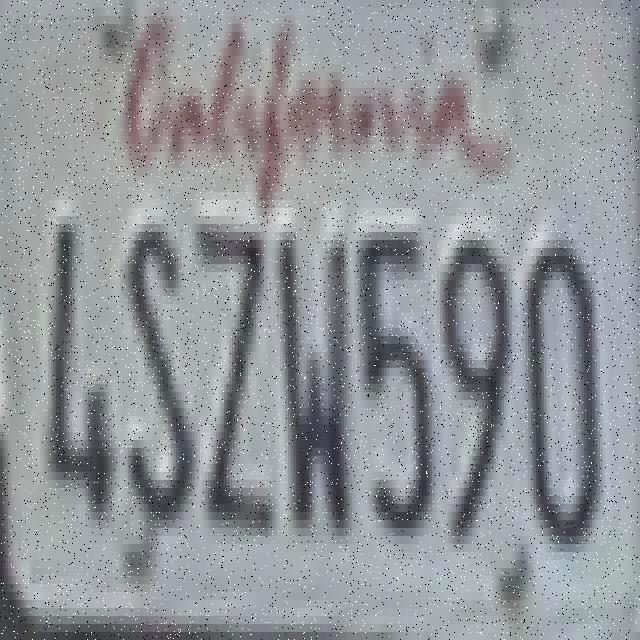licenseplate: (6, 1, 638, 618)
